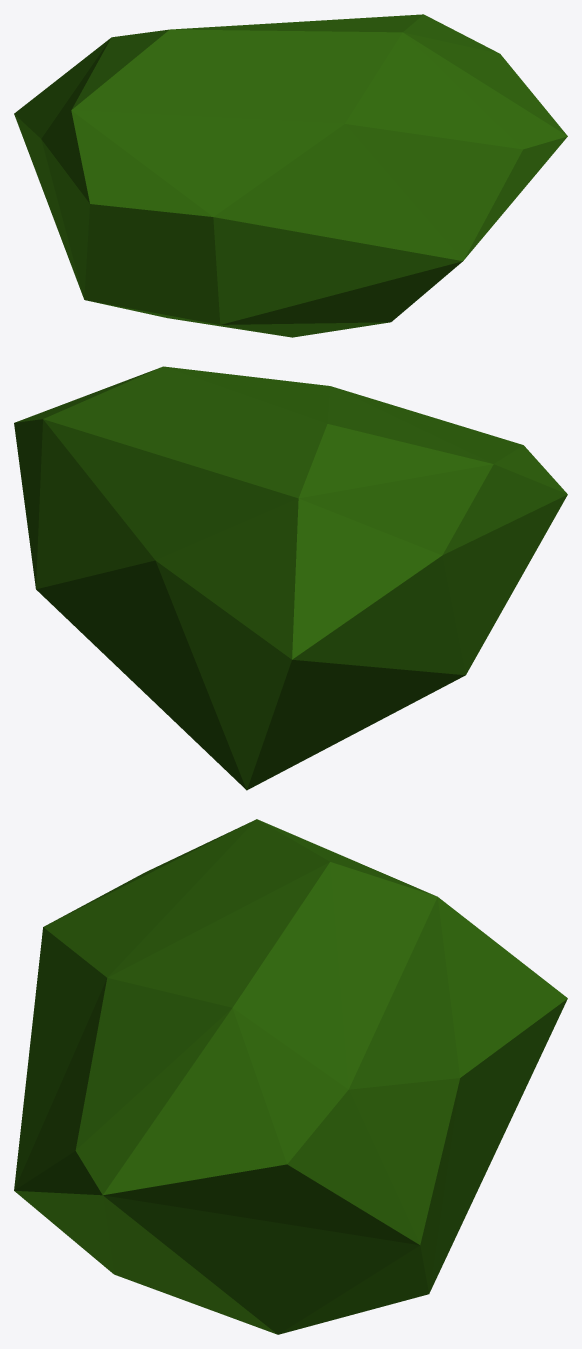
The model's file is p4-green.obj.
The picture shows the model from 3 angles, top to bottom: view 1: azimuth 30°, elevation 25°; view 2: azimuth 150°, elevation 25°; view 3: azimuth 270°, elevation 25°; orthographic projection. The views are drawn at different scales.
Parts seen in each view (by area): view 1: p4-green_Icosphere.031; view 2: p4-green_Icosphere.031; view 3: p4-green_Icosphere.031.
Boxes of the visible parts, x1,y1,x2,y2 form: p4-green_Icosphere.031: (14,14,567,337); p4-green_Icosphere.031: (14,366,567,790); p4-green_Icosphere.031: (14,819,567,1334).
Bounding box in the file's own units: 3.18 × 2.12 × 2.6.
